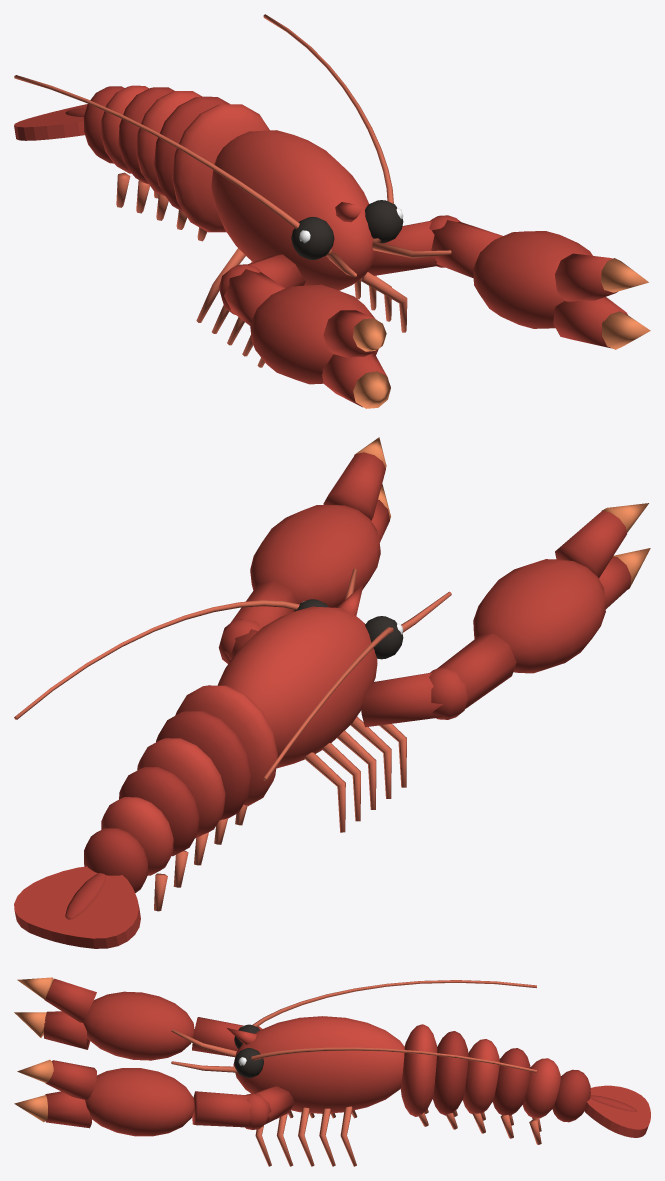
Rendered from sea-lobster.glb.
3 renders of one model, top to bottom at view 1: azimuth 30°, elevation 25°; view 2: azimuth 150°, elevation 25°; view 3: azimuth 270°, elevation 25°, orthographic. The views are drawn at different scales.
Parts seen in each view (by area): view 1: shrimp; view 2: shrimp; view 3: shrimp.
Boxes of the visible parts, left/top/right/bottom form: shrimp: left=14, top=14, right=650, bottom=408; shrimp: left=14, top=437, right=650, bottom=948; shrimp: left=14, top=977, right=650, bottom=1166.
Bounding box in the file's own units: 0.2437 × 0.1297 × 0.5934.
